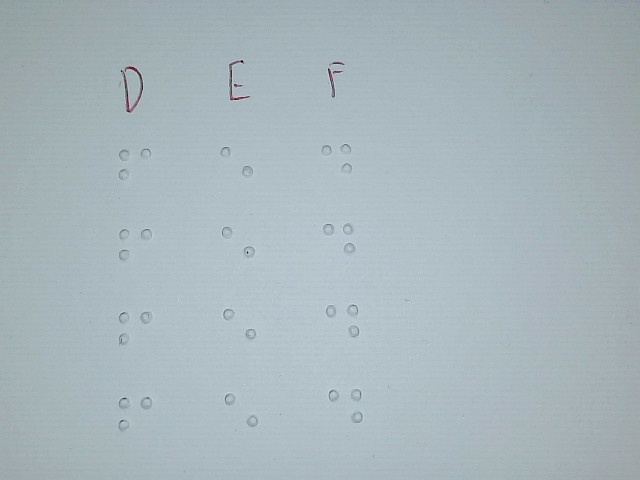D: (319, 132, 354, 194), (321, 211, 356, 273), (325, 292, 360, 354), (328, 378, 363, 440)
E: (218, 134, 255, 198), (220, 215, 257, 279), (221, 297, 258, 361), (223, 381, 260, 445)
F: (116, 137, 153, 201), (117, 217, 154, 281), (117, 299, 154, 363), (117, 385, 154, 449)
